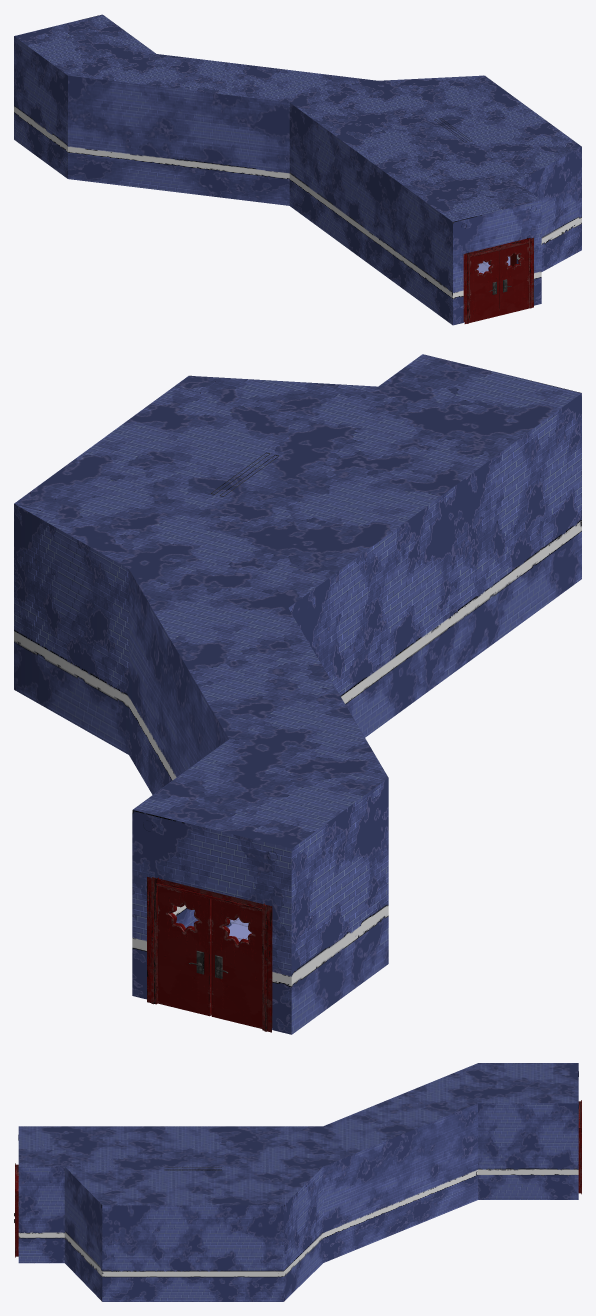
Rendered from Locker_Room_B.fbx.
3 renders of one model, top to bottom at view 1: azimuth 30°, elevation 25°; view 2: azimuth 150°, elevation 25°; view 3: azimuth 270°, elevation 25°, orthographic. The views are drawn at different scales.
Visible parts, largest first — view 1: Side_Wall, Roof, polySurface133, polySurface132, polySurface183; view 2: Roof, Side_Wall, polySurface185, polySurface184, polySurface99; view 3: Side_Wall, Roof.
Boxes of the visible parts, bbox=[...] form: Side_Wall: bbox=[14, 15, 581, 325]; Roof: bbox=[14, 14, 581, 221]; polySurface133: bbox=[470, 250, 499, 322]; polySurface132: bbox=[499, 243, 528, 315]; polySurface183: bbox=[463, 237, 533, 323]; Roof: bbox=[14, 354, 581, 848]; Side_Wall: bbox=[14, 354, 581, 1034]; polySurface185: bbox=[157, 886, 211, 1016]; polySurface184: bbox=[211, 899, 262, 1028]; polySurface99: bbox=[147, 877, 272, 1032]; Side_Wall: bbox=[18, 1063, 578, 1301]; Roof: bbox=[18, 1063, 578, 1205].
Bounding box in the file's own units: 3277 × 1040 × 5528.
